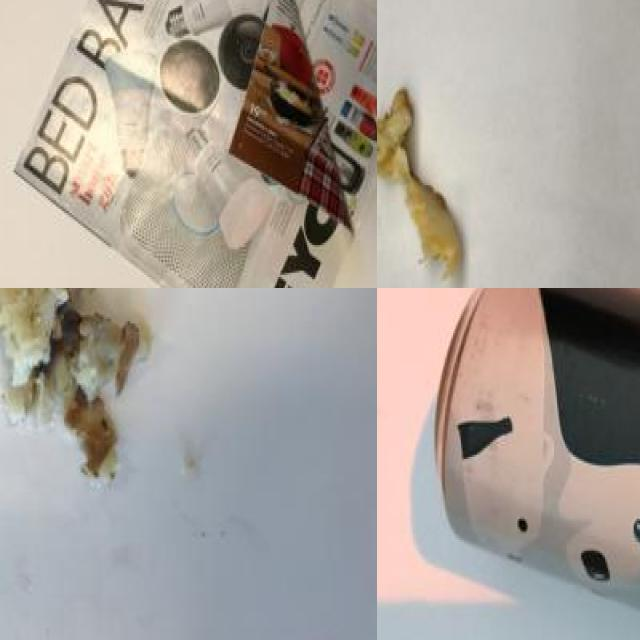compost: (0, 288, 177, 522), (377, 63, 499, 288)
paper: (22, 0, 377, 288)
plastic: (419, 288, 640, 640)
